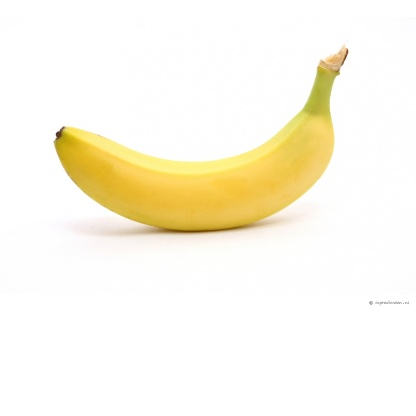chuoi: (43, 67, 361, 245)
